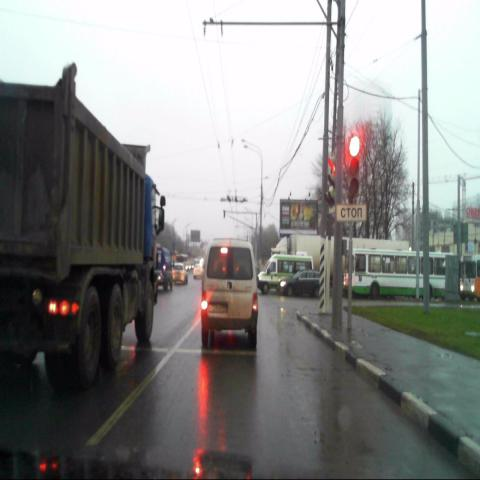6_16: (336, 203, 367, 222)
